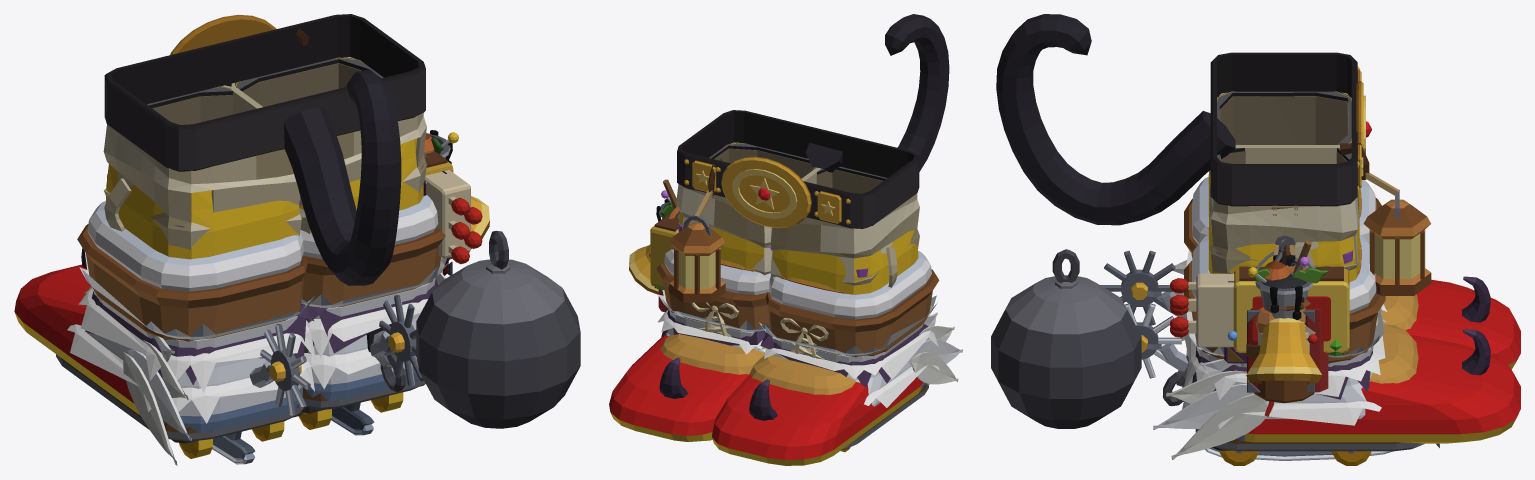
Rendered from kit_legs.glb.
3 renders of one model, left to right at view 1: azimuth 30°, elevation 25°; view 2: azimuth 150°, elevation 25°; view 3: azimuth 270°, elevation 25°, orthographic. The views are drawn at different scales.
Visible parts, largest first — view 1: VW_HonedEdge, VW_BruiseBead__Ball, VW_FleetBuckle, VW_RimeLocket_M, VW_TollingSash_M, VW_WayfarersBoots_M, VW_RimebittenBoots_M, VW_RimeLocket, VW_MireLily_M, VW_TremorStone_M, VW_TollingSash, VW_WayfarersBoots (+14 smaller); view 2: VW_HonedEdge, VW_TremorStone_M, VW_TremorStone, VW_TollingSash_M, VW_FleetBuckle, VW_WayfarersBoots_M, VW_RimeLocket_M, VW_RimebittenBoots_M, VW_LumenCharm, VW_MireLily_M, VW_TollingSash, VW_OxYoke_M (+11 smaller); view 3: VW_BruiseBead__Ball, VW_FleetBuckle, VW_TremorStone, VW_HonedEdge, VW_Tinderbox, VW_TollingSash_M, VW_TollingSash, VW_RimeLocket, VW_LumenCharm, VW_QuicksilverRing, VW_TremorStone_M, VW_OxYoke (+17 smaller).
Part boxes in pixels (bbox=[...]): VW_HonedEdge: bbox=[104, 14, 425, 171]; VW_BruiseBead__Ball: bbox=[416, 230, 580, 428]; VW_FleetBuckle: bbox=[284, 69, 401, 285]; VW_RimeLocket_M: bbox=[67, 251, 315, 432]; VW_TollingSash_M: bbox=[103, 85, 301, 249]; VW_WayfarersBoots_M: bbox=[77, 224, 307, 341]; VW_RimebittenBoots_M: bbox=[87, 201, 303, 464]; VW_RimeLocket: bbox=[301, 258, 448, 401]; VW_MireLily_M: bbox=[106, 86, 299, 259]; VW_TremorStone_M: bbox=[14, 264, 140, 415]; VW_TollingSash: bbox=[231, 57, 426, 233]; VW_WayfarersBoots: bbox=[302, 227, 445, 307]; VW_HonedEdge: bbox=[677, 110, 919, 228]; VW_TremorStone_M: bbox=[712, 374, 923, 465]; VW_TremorStone: bbox=[609, 334, 748, 441]; VW_TollingSash_M: bbox=[770, 167, 919, 287]; VW_FleetBuckle: bbox=[805, 14, 949, 172]; VW_WayfarersBoots_M: bbox=[765, 269, 939, 357]; VW_RimeLocket_M: bbox=[758, 295, 939, 407]; VW_RimebittenBoots_M: bbox=[769, 251, 931, 319]; VW_LumenCharm: bbox=[669, 159, 725, 302]; VW_MireLily_M: bbox=[772, 230, 918, 294]; VW_TollingSash: bbox=[676, 142, 821, 275]; VW_OxYoke_M: bbox=[750, 318, 929, 449]; VW_BruiseBead__Ball: bbox=[991, 249, 1141, 428]; VW_FleetBuckle: bbox=[996, 14, 1235, 225]; VW_TremorStone: bbox=[1245, 335, 1520, 443]; VW_HonedEdge: bbox=[1210, 52, 1371, 206]; VW_Tinderbox: bbox=[1170, 214, 1349, 354]; VW_TollingSash_M: bbox=[1210, 92, 1349, 177]; VW_TollingSash: bbox=[1209, 145, 1358, 273]; VW_RimeLocket: bbox=[1182, 308, 1439, 447]; VW_LumenCharm: bbox=[1340, 143, 1431, 295]; VW_QuicksilverRing: bbox=[1153, 359, 1275, 459]; VW_TremorStone_M: bbox=[1406, 279, 1520, 369]; VW_OxYoke: bbox=[1195, 311, 1424, 451].
Size of the model in its own units: 3.15 by 3.61 by 4.25.
